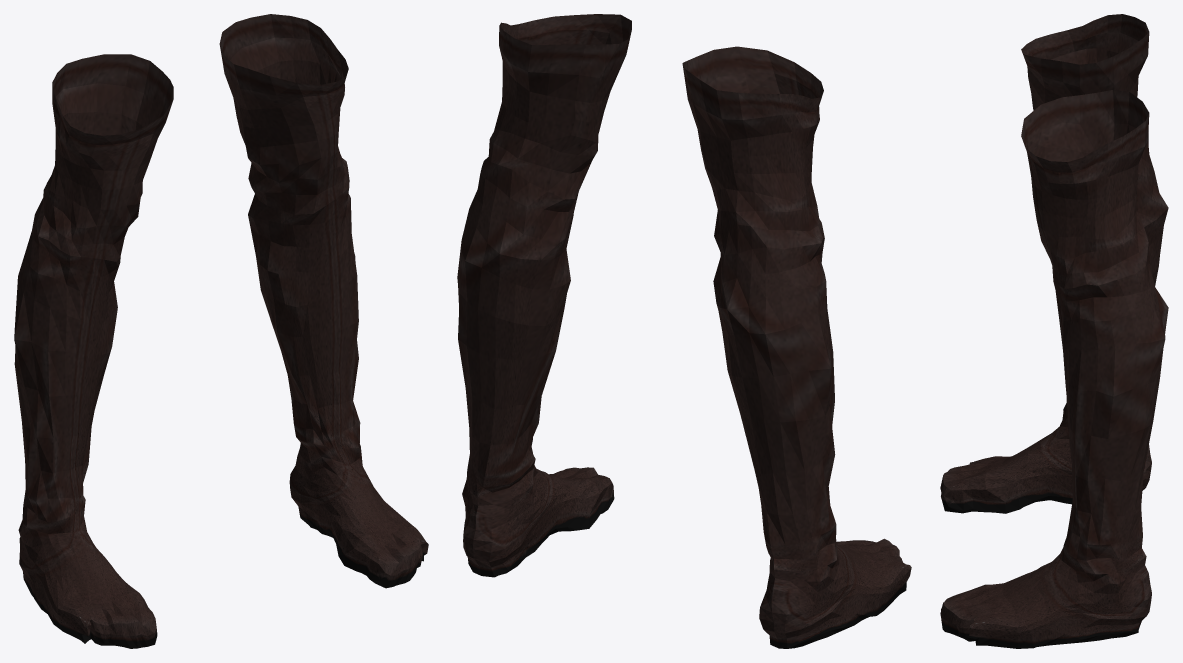
The model's file is mhw_cortu_floppy_overknee_shoes.glb.
3 renders of one model, left to right at view 1: azimuth 30°, elevation 25°; view 2: azimuth 150°, elevation 25°; view 3: azimuth 270°, elevation 25°, orthographic. The views are drawn at different scales.
Visible parts, largest first — view 1: mhw_cortu_floppy_overknee_shoes; view 2: mhw_cortu_floppy_overknee_shoes; view 3: mhw_cortu_floppy_overknee_shoes.
Boxes of the visible parts, <box> form: mhw_cortu_floppy_overknee_shoes: <box>14,14,428,648</box>; mhw_cortu_floppy_overknee_shoes: <box>457,14,911,648</box>; mhw_cortu_floppy_overknee_shoes: <box>940,14,1168,648</box>.
Bounding box in the file's own units: 0.5401 × 0.7463 × 0.3085.
Materials: 1 (1 with a texture image).
